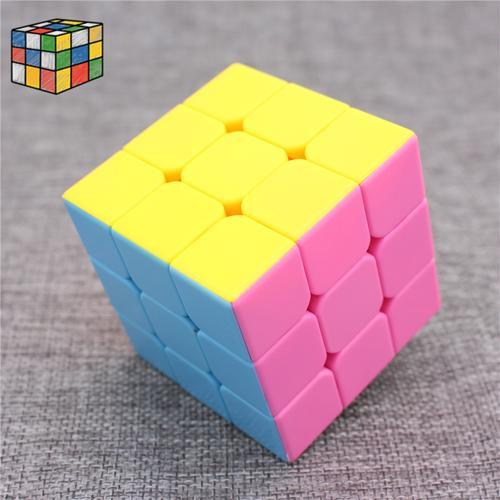cube: (55, 46, 461, 468), (8, 16, 123, 99)
